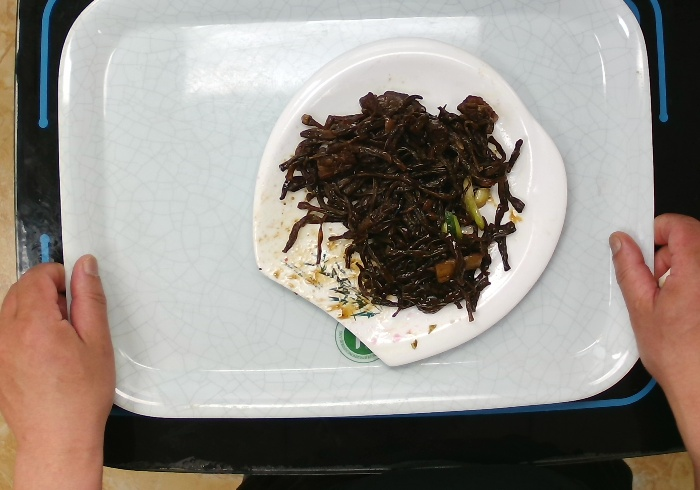JYsf-Mian_Pan: (249, 34, 570, 369)
